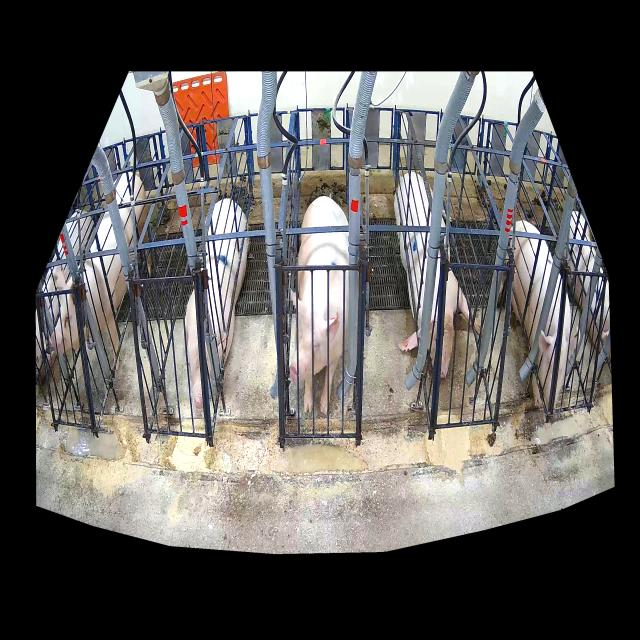pig: (51, 172, 151, 370), (394, 172, 469, 379), (185, 198, 249, 409), (290, 197, 348, 415), (512, 220, 577, 411)
